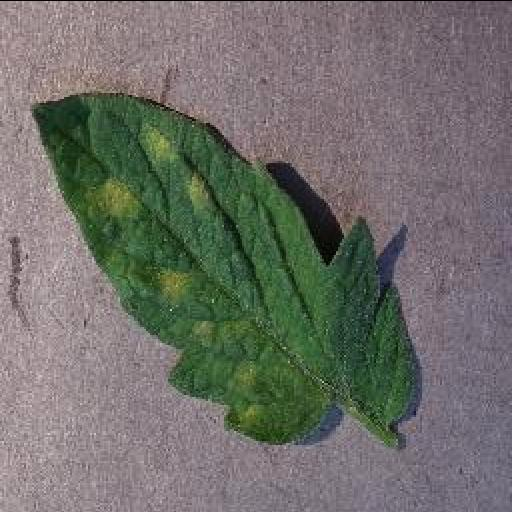disease_tomato: (30, 89, 422, 442)
